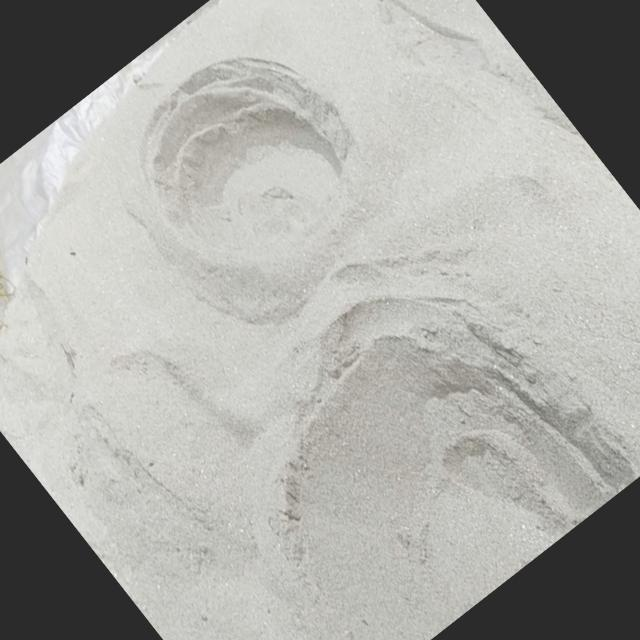C20: (285, 299, 626, 640), (145, 58, 347, 258)
